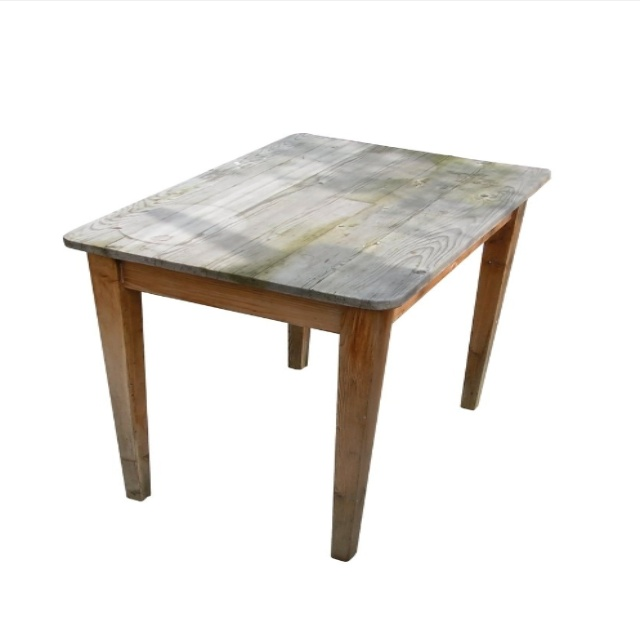obstacle: (62, 131, 549, 558)
